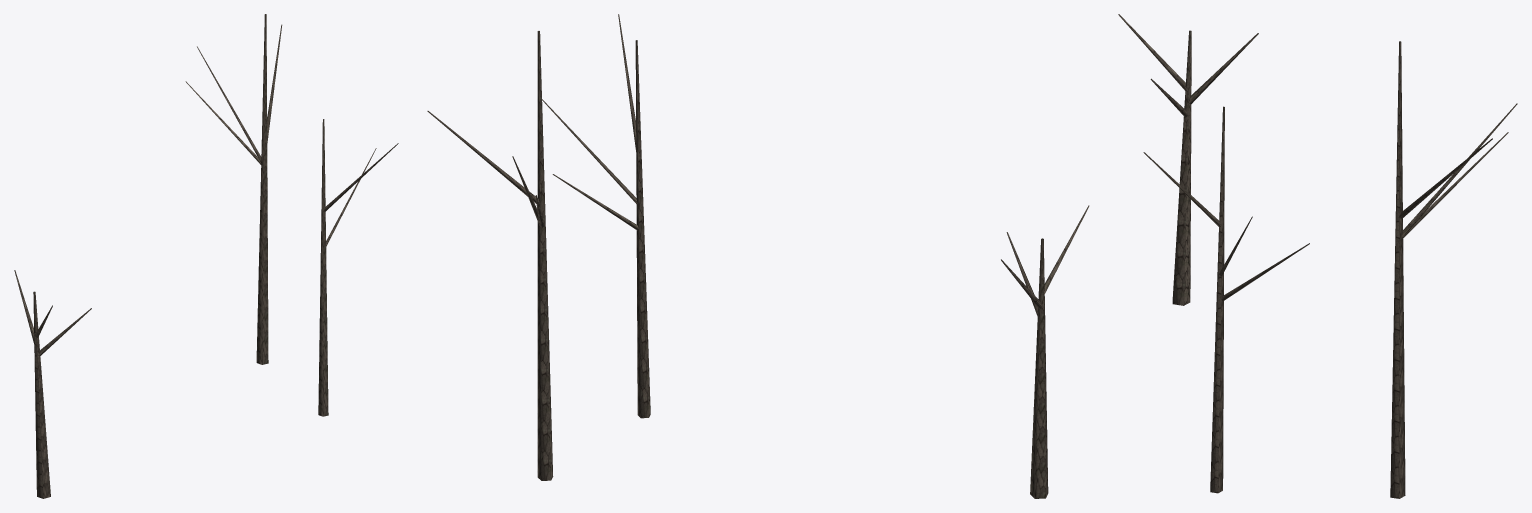
Rendered from S7U_FarTreeRow_20m_B.fbx.
3 renders of one model, left to right at view 1: azimuth 30°, elevation 25°; view 2: azimuth 150°, elevation 25°; view 3: azimuth 270°, elevation 25°, orthographic. The views are drawn at different scales.
Parts seen in each view (by area): view 1: S7U_FarTreeRow_20m_B; view 2: S7U_FarTreeRow_20m_B; view 3: S7U_FarTreeRow_20m_B.
Part boxes in pixels (x1=…): S7U_FarTreeRow_20m_B: x1=14, y1=14, x2=398, y2=498; S7U_FarTreeRow_20m_B: x1=427, y1=14, x2=1089, y2=498; S7U_FarTreeRow_20m_B: x1=1118, y1=14, x2=1517, y2=498.
Size of the model in its own units: 16.85 by 14.88 by 11.8.
